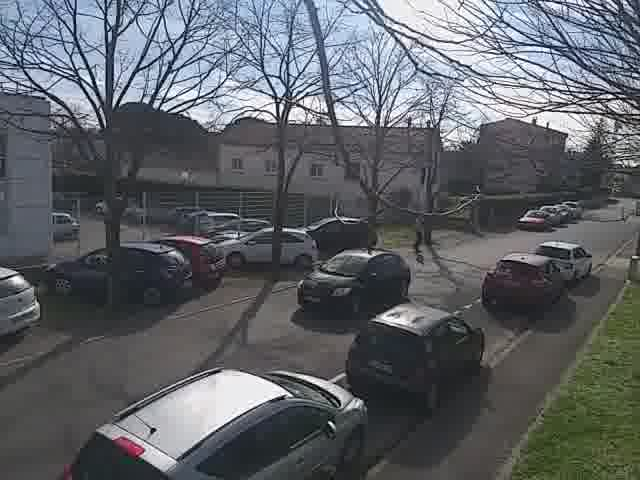persona: (409, 208, 429, 259)
